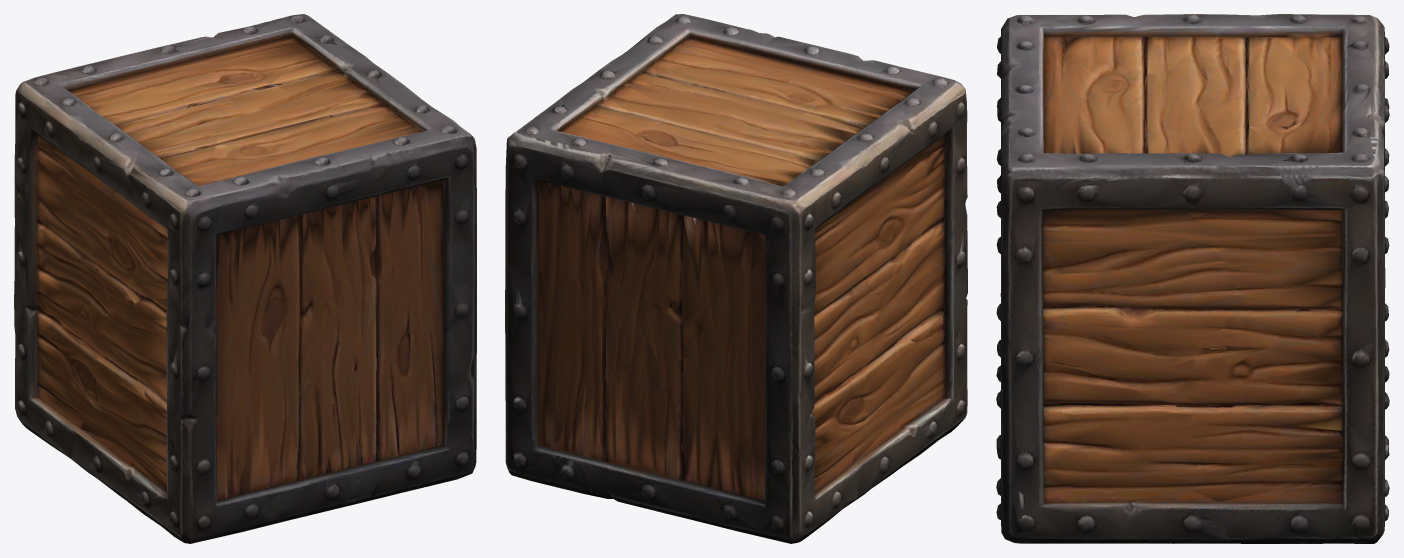
Rendered from kup_ahsap_metal_parcali.glb.
3 views of the same model, side by side, from view 1: azimuth 30°, elevation 25°; view 2: azimuth 150°, elevation 25°; view 3: azimuth 270°, elevation 25° (orthographic). The views are drawn at different scales.
Visible parts, largest first — view 1: p04, p00, p08, p05, p09, p10, p06, p02, p01, p11; view 2: p09, p06, p11, p08, p02, p00, p04, p07, p03, p01; view 3: p01, p07, p10, p02, p04, p06, p08, p03.
Part boxes in pixels (box(x1,y1,x2,y2)): p04: box(208, 95, 476, 316); p00: box(71, 288, 282, 543); p08: box(38, 98, 219, 303); p05: box(268, 268, 476, 524); p09: box(14, 102, 107, 457); p10: box(266, 296, 476, 525); p06: box(15, 39, 296, 123); p02: box(192, 14, 396, 97); p01: box(311, 79, 476, 287); p11: box(15, 394, 76, 463); p09: box(683, 202, 878, 517); p06: box(622, 108, 824, 329); p11: box(523, 356, 855, 543); p08: box(766, 73, 967, 298); p02: box(505, 66, 670, 290); p00: box(853, 181, 967, 500); p04: box(644, 14, 926, 122); p07: box(505, 264, 625, 478); p03: box(600, 285, 689, 358); p01: box(605, 36, 663, 101); p01: box(996, 136, 1240, 405); p07: box(1187, 303, 1389, 543); p10: box(996, 350, 1231, 543); p02: box(1171, 105, 1389, 313); p04: box(996, 32, 1208, 225); p06: box(1193, 14, 1389, 132); p08: box(997, 14, 1313, 107); p03: box(1181, 298, 1252, 414).
Bounding box in the file's own units: 0.8851 × 0.9799 × 0.9003.
2 materials, 1 textured.
